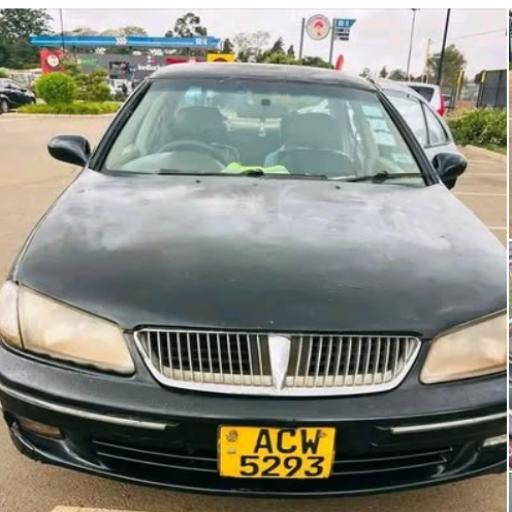number-plates: (219, 426, 327, 481)
